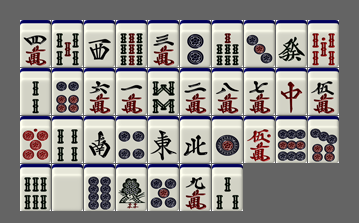0m: (244, 116, 275, 163)
0p: (20, 116, 51, 163)
0s: (308, 20, 339, 67)
1m: (116, 68, 147, 115)
1p: (212, 116, 243, 163)
1s: (116, 164, 147, 211)
1z: (148, 116, 179, 163)
2m: (180, 68, 211, 115)
2p: (180, 20, 211, 67)
2s: (20, 68, 51, 115)
2z: (84, 116, 115, 163)
3m: (148, 20, 179, 67)
3p: (244, 20, 275, 67)
3s: (212, 164, 243, 211)
3z: (84, 20, 115, 67)
4m: (20, 20, 51, 67)
4p: (116, 116, 147, 163)
4s: (52, 116, 83, 163)
4z: (180, 116, 211, 163)
5m: (308, 68, 339, 115)
5p: (148, 164, 179, 211)
5s: (52, 20, 83, 67)
5z: (52, 164, 83, 211)
6m: (84, 68, 115, 115)
6p: (52, 68, 83, 115)
6s: (20, 164, 51, 211)
6z: (276, 20, 307, 67)
7m: (244, 68, 275, 115)
7p: (308, 116, 339, 163)
7s: (212, 20, 243, 67)
7z: (276, 68, 307, 115)
8m: (212, 68, 243, 115)
8p: (84, 164, 115, 211)
8s: (148, 68, 179, 115)
9m: (180, 164, 211, 211)
9p: (276, 116, 307, 163)
9s: (116, 20, 147, 67)
